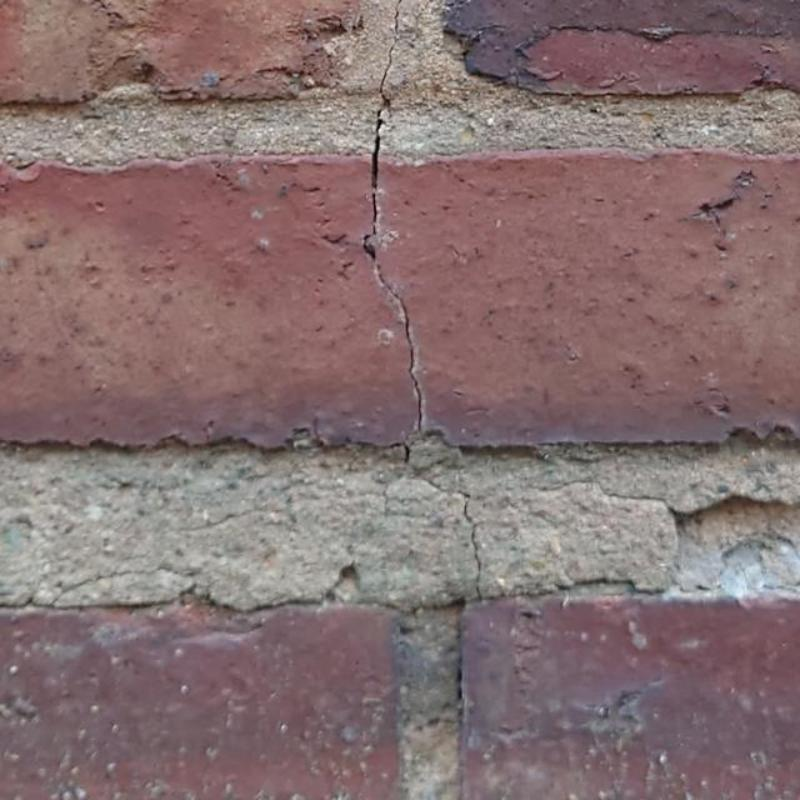pothole: (362, 0, 424, 464), (412, 465, 484, 602)
